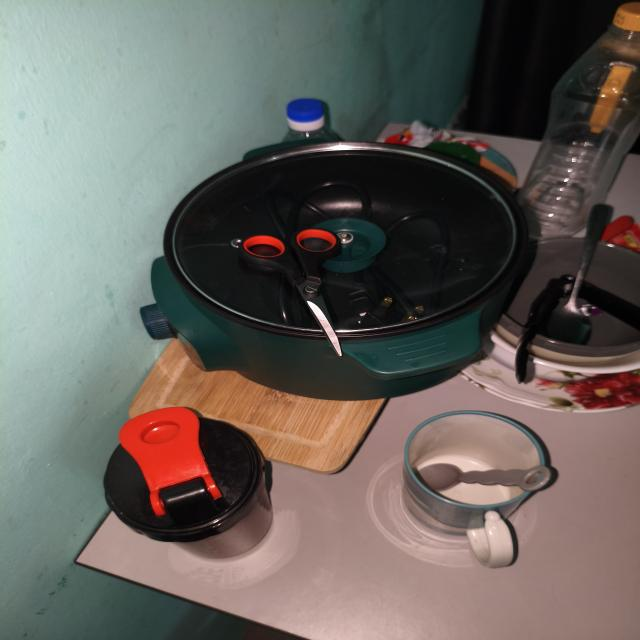scissor: (238, 228, 343, 356)
